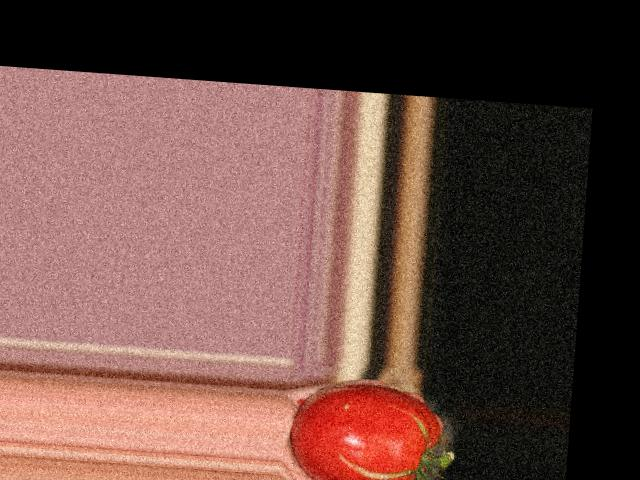tomato: (287, 378, 444, 480)
